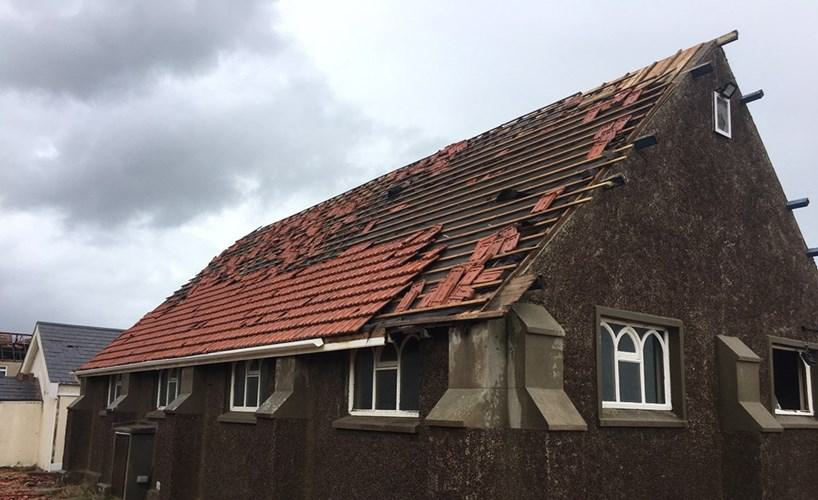sagging_roof: (229, 77, 686, 321)
